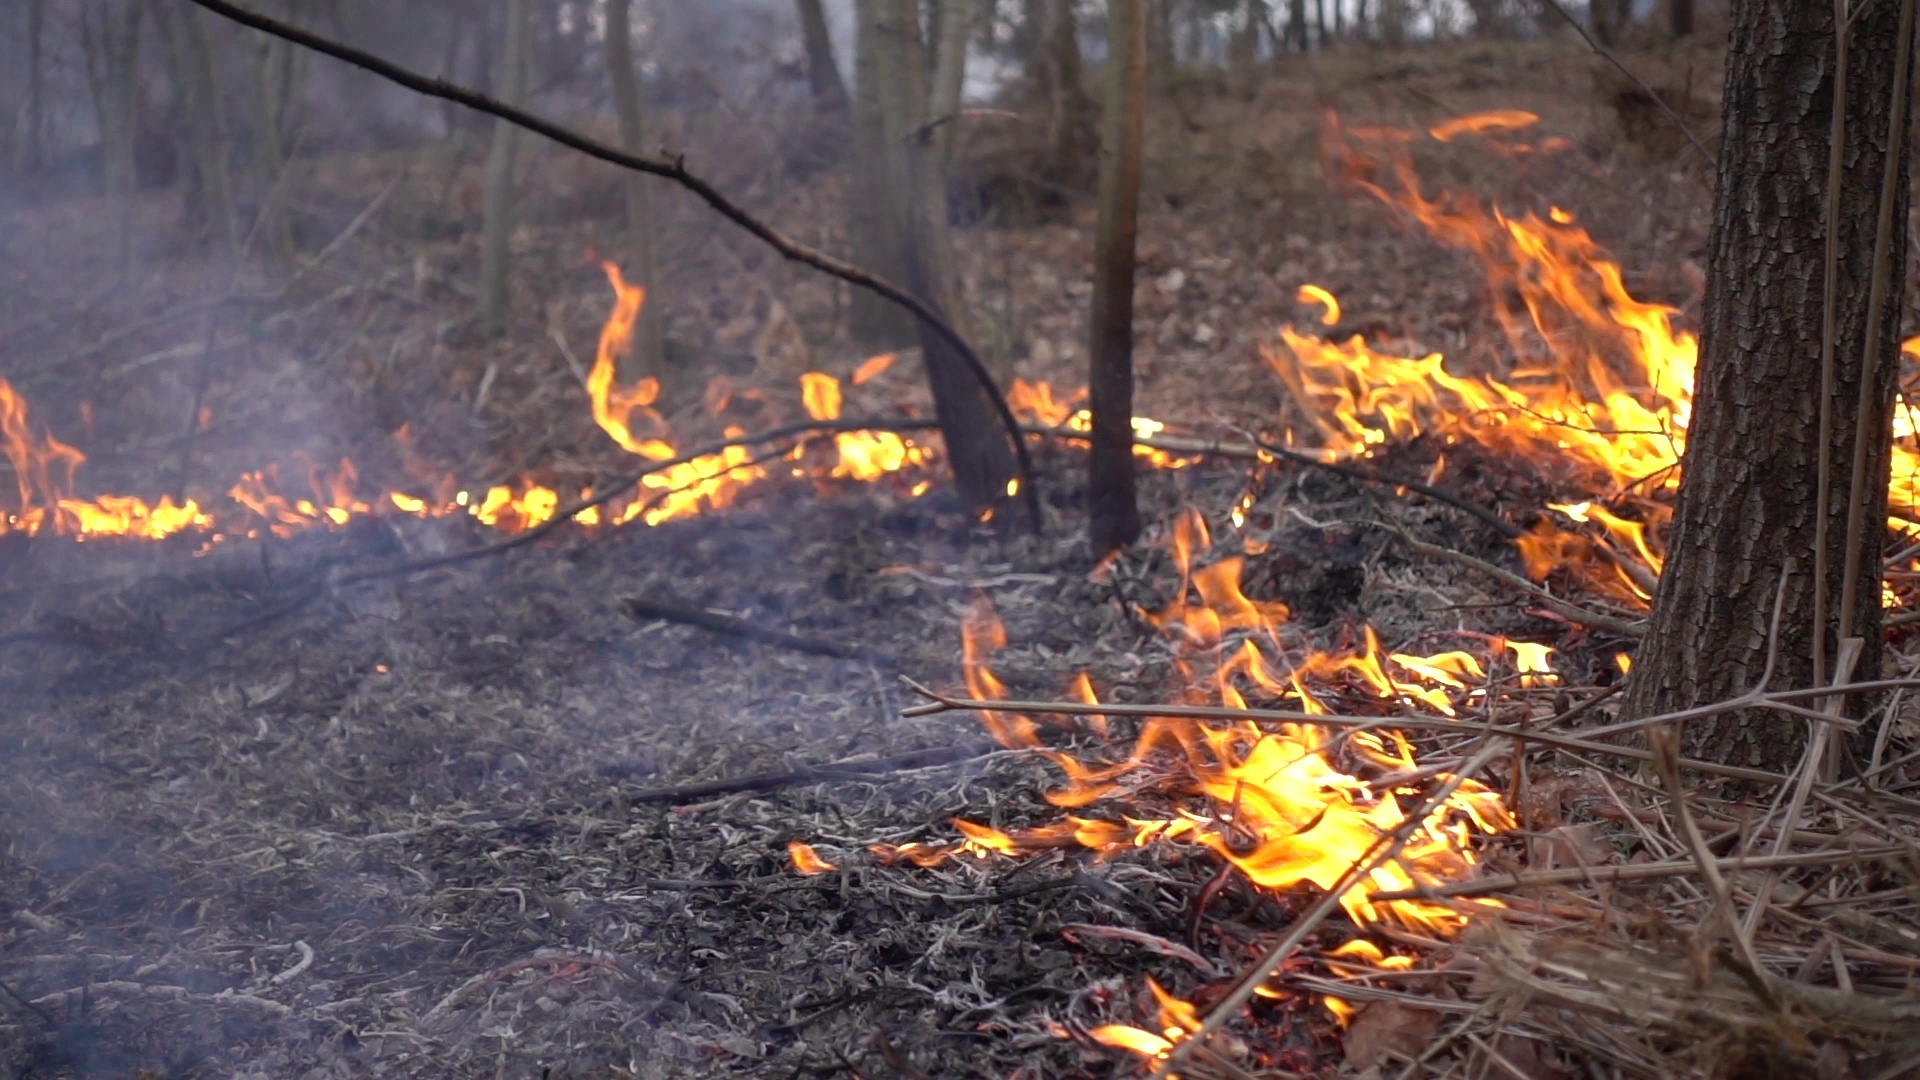fire: (964, 553, 1559, 960), (1270, 167, 1696, 502), (582, 272, 673, 473), (803, 376, 905, 477), (30, 491, 199, 538), (629, 448, 760, 506), (243, 480, 353, 525), (469, 484, 555, 518), (1895, 396, 1920, 506)
